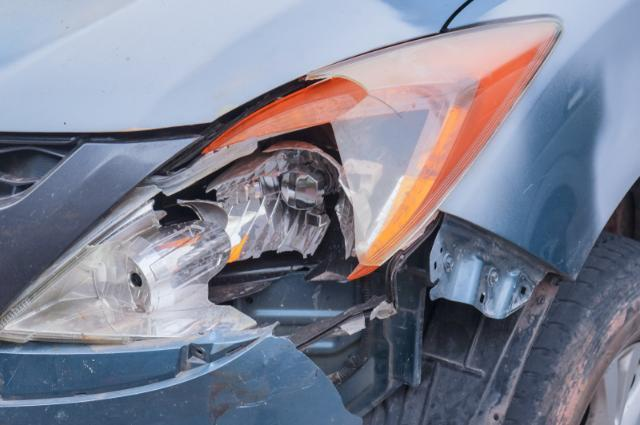Fender: (268, 211, 579, 425)
Light: (0, 20, 573, 357)
